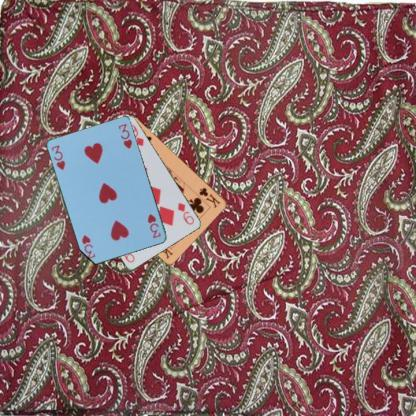3h: (49, 142, 67, 172), (145, 212, 162, 239)
9d: (175, 200, 196, 226)
Kc: (197, 185, 222, 209)
